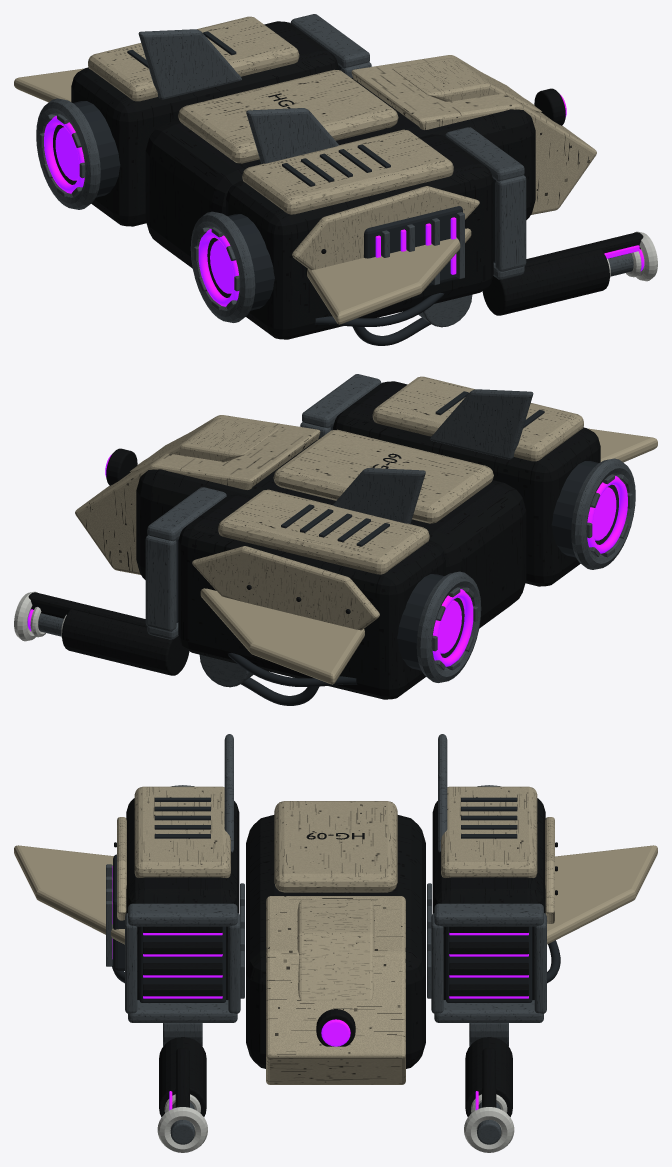
File: gunship.glb
3 views of the same model, one above another, from view 1: azimuth 30°, elevation 25°; view 2: azimuth 150°, elevation 25°; view 3: azimuth 270°, elevation 25° (orthographic).
Visible parts, largest first — view 1: HEAVY_Gunship_REF_ceramic, HEAVY_Gunship_REF_dark, HEAVY_Gunship_REF_steel, HEAVY_Gunship_REF_rubber, HEAVY_Gunship_REF_violet, HEAVY_Gunship_REF_edge; view 2: HEAVY_Gunship_REF_ceramic, HEAVY_Gunship_REF_dark, HEAVY_Gunship_REF_steel, HEAVY_Gunship_REF_rubber, HEAVY_Gunship_REF_violet, HEAVY_Gunship_REF_edge; view 3: HEAVY_Gunship_REF_ceramic, HEAVY_Gunship_REF_dark, HEAVY_Gunship_REF_steel, HEAVY_Gunship_REF_rubber, HEAVY_Gunship_REF_edge, HEAVY_Gunship_REF_violet.
Boxes of the visible parts, x1,y1,x2,y2 form: HEAVY_Gunship_REF_ceramic: (14,16,596,324); HEAVY_Gunship_REF_dark: (71,21,643,339); HEAVY_Gunship_REF_steel: (36,14,633,327); HEAVY_Gunship_REF_rubber: (53,31,632,345); HEAVY_Gunship_REF_violet: (44,94,644,306); HEAVY_Gunship_REF_edge: (607,231,657,281); HEAVY_Gunship_REF_ceramic: (75,376,657,684); HEAVY_Gunship_REF_dark: (28,381,600,699); HEAVY_Gunship_REF_steel: (38,374,635,687); HEAVY_Gunship_REF_rubber: (39,391,618,705); HEAVY_Gunship_REF_violet: (27,454,627,666); HEAVY_Gunship_REF_edge: (14,591,66,641); HEAVY_Gunship_REF_ceramic: (14,786,657,1084); HEAVY_Gunship_REF_dark: (114,798,557,1116); HEAVY_Gunship_REF_steel: (106,734,546,1144); HEAVY_Gunship_REF_rubber: (112,797,560,1002); HEAVY_Gunship_REF_edge: (157,1094,514,1152); HEAVY_Gunship_REF_violet: (112,866,528,1110).
Bounding box in the file's own units: 1.5 × 0.8062 × 1.93.
Materials: 6 (3 with a texture image).
